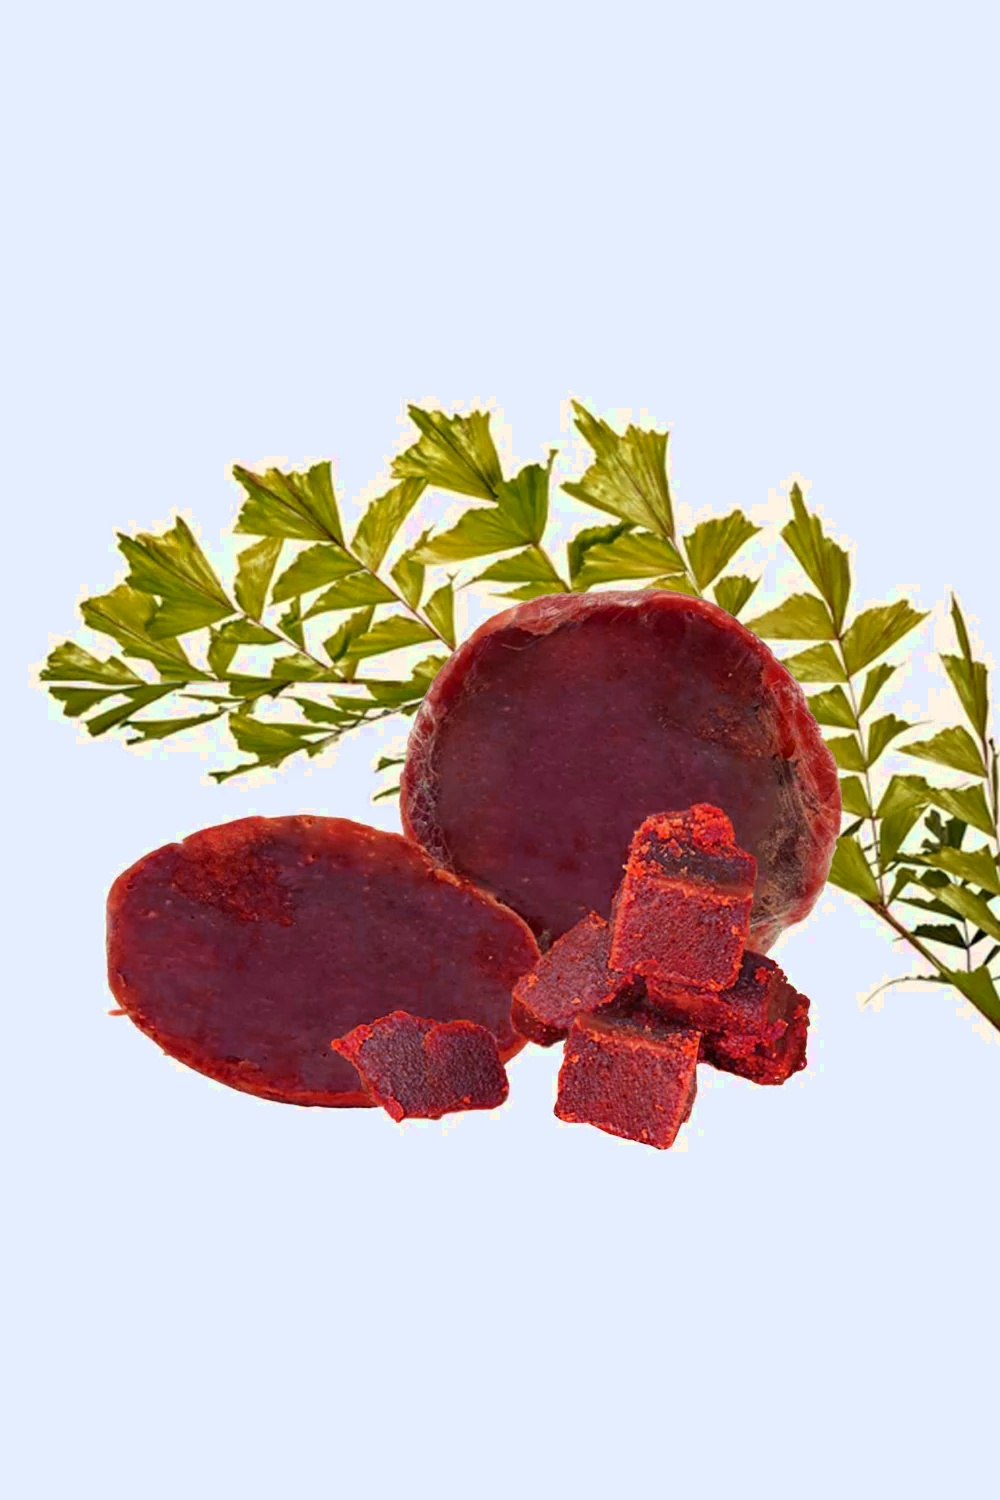hakuru: (395, 585, 848, 974), (83, 810, 540, 1113)
